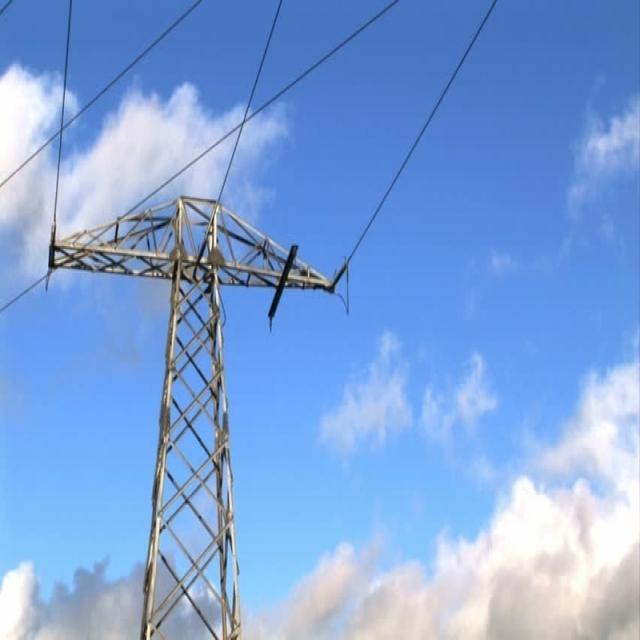non-critical vegetation: (45, 204, 348, 628)
